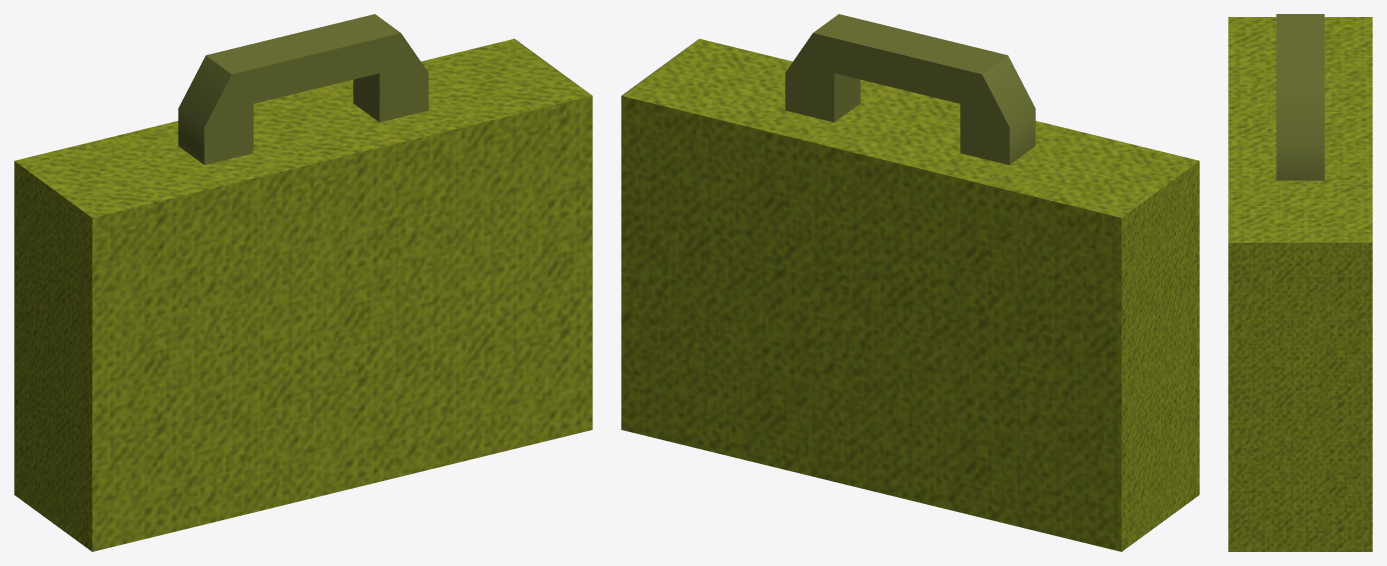
The model's file is PickupShares.fbx.
3 views of the same model, side by side, from view 1: azimuth 30°, elevation 25°; view 2: azimuth 150°, elevation 25°; view 3: azimuth 270°, elevation 25° (orthographic). The views are drawn at different scales.
Visible parts, largest first — view 1: Shares; view 2: Shares; view 3: Shares.
Part boxes in pixels (x1,y1,x2,y2): Shares: (14,14,592,551); Shares: (621,14,1199,551); Shares: (1228,14,1372,551).
Size of the model in its own units: 75.93 by 60.63 by 20.51.
Materials: 1 (1 with a texture image).
